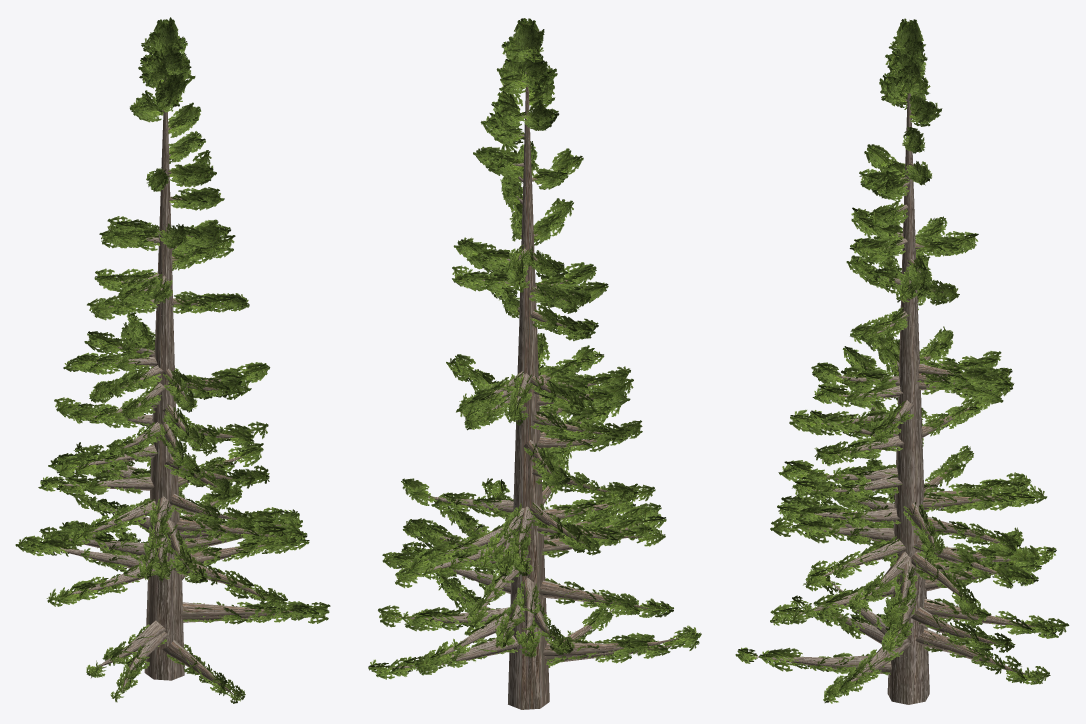
Rendered from eztree-eastern-redcedar-open-c.glb.
The picture shows the model from 3 angles, left to right: view 1: azimuth 30°, elevation 25°; view 2: azimuth 150°, elevation 25°; view 3: azimuth 270°, elevation 25°; orthographic projection. The views are drawn at different scales.
Visible parts, largest first — view 1: eztree-eastern-redcedar-open-c; view 2: eztree-eastern-redcedar-open-c; view 3: eztree-eastern-redcedar-open-c.
Boxes of the visible parts, <box> form: eztree-eastern-redcedar-open-c: <box>15,17,330,703</box>; eztree-eastern-redcedar-open-c: <box>368,18,701,709</box>; eztree-eastern-redcedar-open-c: <box>735,18,1069,704</box>.
Bounding box in the file's own units: 22.2 × 52.01 × 23.46.
Materials: 2 (2 with a texture image).
